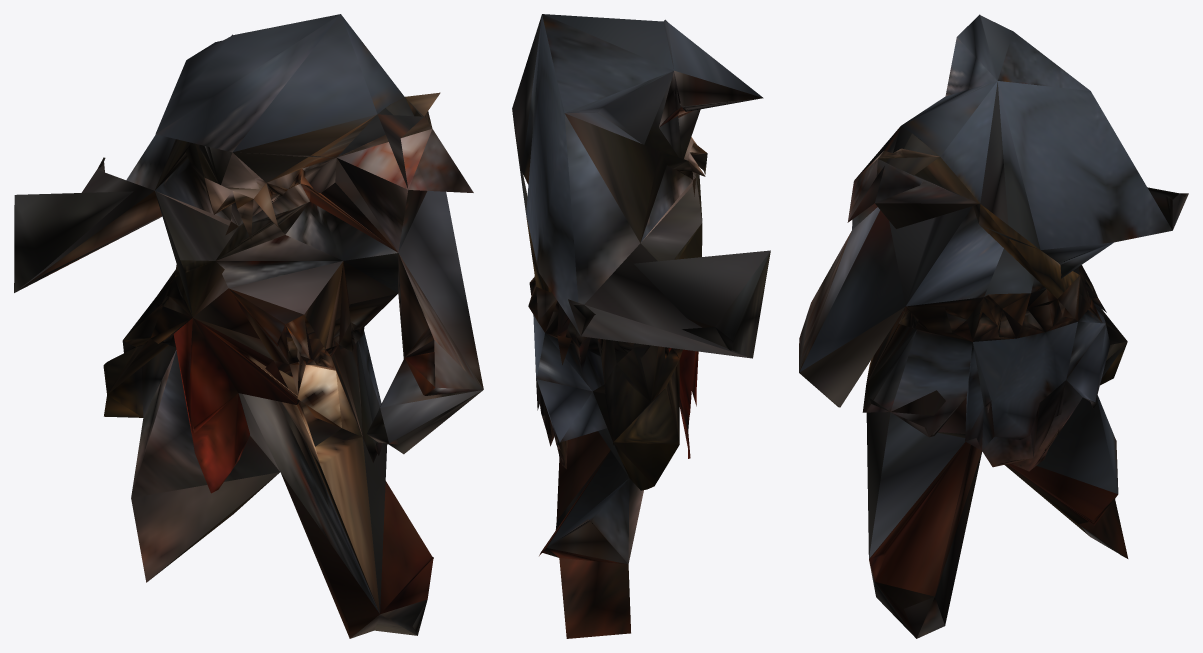
File: demo_scout_01.glb
3 renders of one model, left to right at view 1: azimuth 30°, elevation 25°; view 2: azimuth 150°, elevation 25°; view 3: azimuth 270°, elevation 25°, orthographic. The views are drawn at different scales.
Parts seen in each view (by area): view 1: node_0; view 2: node_0; view 3: node_0.
Boxes of the visible parts, box(x1,y1,x2,y2) form: node_0: box(14, 14, 483, 638); node_0: box(512, 14, 770, 638); node_0: box(799, 14, 1188, 638).
Bounding box in the file's own units: 0.5277 × 0.9046 × 0.5728.
Materials: 1 (1 with a texture image).
